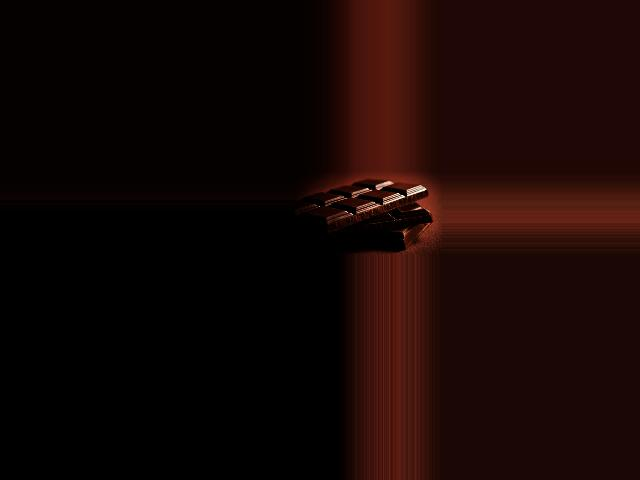chocolate: (298, 180, 431, 241)
